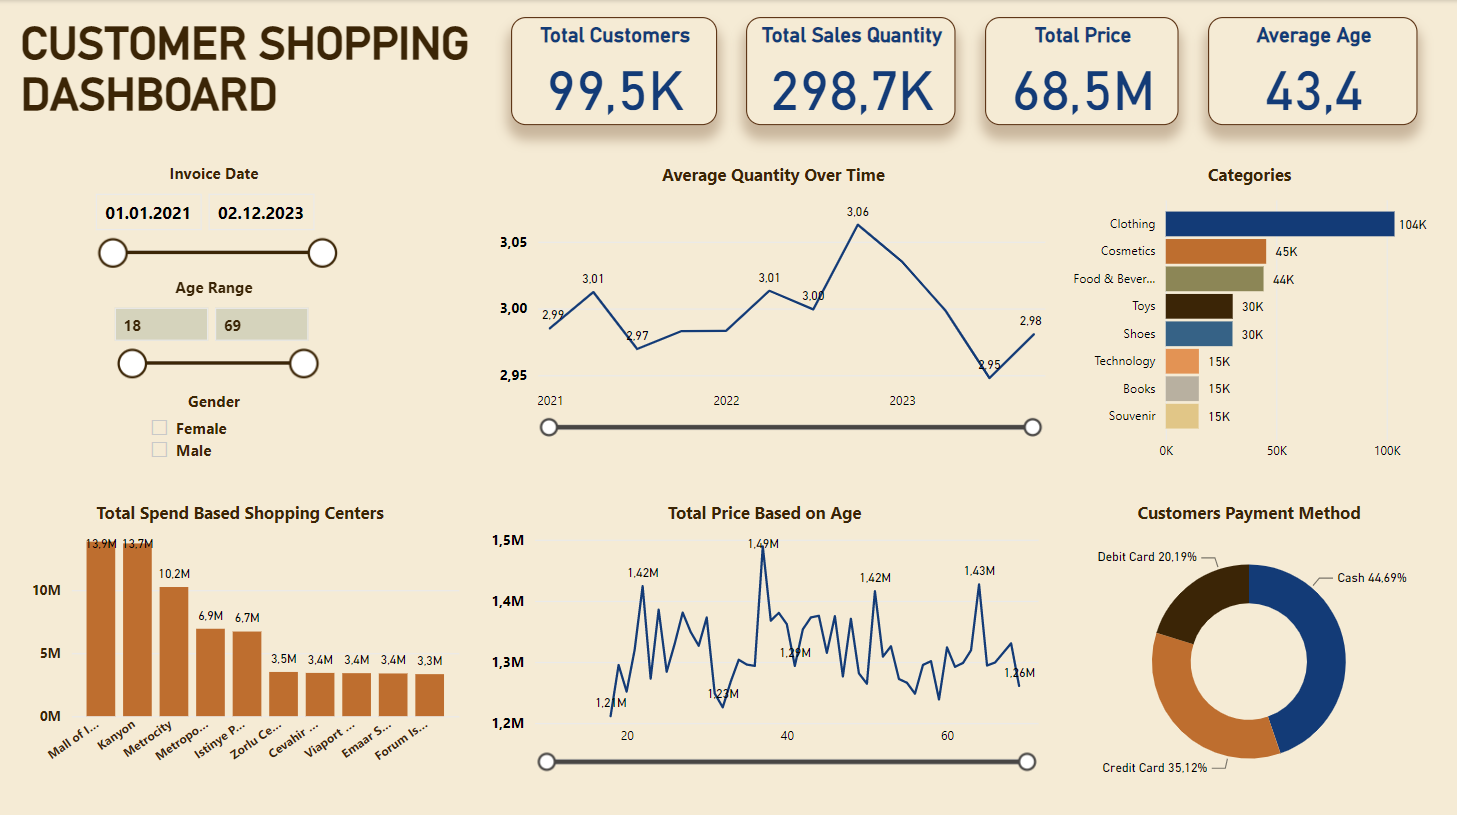

The page's visual inventory and layout, read from the dashboard file:
{"tool":"powerbi","page":{"name":"1. sayfa","canvas":[1280,720],"ordinal":0},"visuals":[{"type":"clusteredBarChart","title":"Categories","fields":{"Category":["customer_shopping_data.category"],"Y":["Sum(customer_shopping_data.quantity)"]},"box":[925.5,143.1,345.1,271.3],"z":0},{"type":"columnChart","title":"Total Spend Based Shopping Centers","fields":{"Category":["customer_shopping_data.shopping_mall"],"Y":["Sum(customer_shopping_data.price)"]},"box":[14,439.9,395.1,239.7],"z":1000},{"type":"card","title":"Total Price","fields":{"Values":["Sum(customer_shopping_data.price)"]},"box":[865.8,14.9,170.3,94.8],"z":2000},{"type":"card","title":"Total Sales Quantity","fields":{"Values":["Sum(customer_shopping_data.quantity)"]},"box":[655.9,14.9,184.4,94.8],"z":3000},{"type":"slicer","title":"Invoice Date","fields":{"Values":["customer_shopping_data.invoice_date"]},"box":[72,143.1,233.6,94],"z":4000},{"type":"slicer","title":"Gender","fields":{"Values":["customer_shopping_data.gender"]},"box":[121.2,343.3,135.2,64.1],"z":5000},{"type":"lineChart","title":"Average Quantity Over Time","fields":{"Y":["Avg(customer_shopping_data.quantity)"],"Category":["customer_shopping_data.invoice_date.Varyasyon.Tarih Hiyerarşisi.Yıl","customer_shopping_data.invoice_date.Varyasyon.Tarih Hiyerarşisi.Çeyrek","customer_shopping_data.invoice_date.Varyasyon.Tarih Hiyerarşisi.Ay","customer_shopping_data.invoice_date.Varyasyon.Tarih Hiyerarşisi.Gün"]},"box":[434.6,143.1,490.8,243.2],"z":6000},{"type":"card","title":"Total Customers","fields":{"Values":["CountNonNull(customer_shopping_data.customer_id)"]},"box":[449.6,14.9,180.9,94.8],"z":7000},{"type":"donutChart","title":"Customers Payment Method","fields":{"Category":["customer_shopping_data.payment_method"],"Y":["Count(customer_shopping_data.customer_id)"]},"box":[925.5,439.9,344.2,261.7],"z":8000},{"type":"card","title":"Average Age","fields":{"Values":["Avg(customer_shopping_data.age)"]},"box":[1061.6,14.9,184.4,94.8],"z":9000},{"type":"lineChart","title":"Total Price Based on Age","fields":{"Category":["customer_shopping_data.age"],"Y":["Sum(customer_shopping_data.price)"]},"box":[426.7,439.9,490.8,239.7],"z":10000},{"type":"textbox","title":"CUSTOMER SHOPPING DASHBOARD","box":[14,14.9,428.5,94.8],"z":11000},{"type":"slicer","title":"Age Range","fields":{"Values":["customer_shopping_data.age"]},"box":[88.7,243.2,200.2,94],"z":12000}]}

Visuals, with their boxes in screenshot pixels (x1, y1, x2, y2), scaled from the page's 1280x720 canvas onto the 1457x815 screenshot:
"Categories" clusteredBarChart: detection(1053, 162, 1446, 469)
"Total Spend Based Shopping Centers" columnChart: detection(16, 498, 466, 769)
"Total Price" card: detection(986, 17, 1179, 124)
"Total Sales Quantity" card: detection(747, 17, 956, 124)
"Invoice Date" slicer: detection(82, 162, 348, 268)
"Gender" slicer: detection(138, 389, 292, 461)
"Average Quantity Over Time" lineChart: detection(495, 162, 1053, 437)
"Total Customers" card: detection(512, 17, 718, 124)
"Customers Payment Method" donutChart: detection(1053, 498, 1445, 794)
"Average Age" card: detection(1208, 17, 1418, 124)
"Total Price Based on Age" lineChart: detection(486, 498, 1044, 769)
"CUSTOMER SHOPPING DASHBOARD" textbox: detection(16, 17, 504, 124)
"Age Range" slicer: detection(101, 275, 329, 382)
